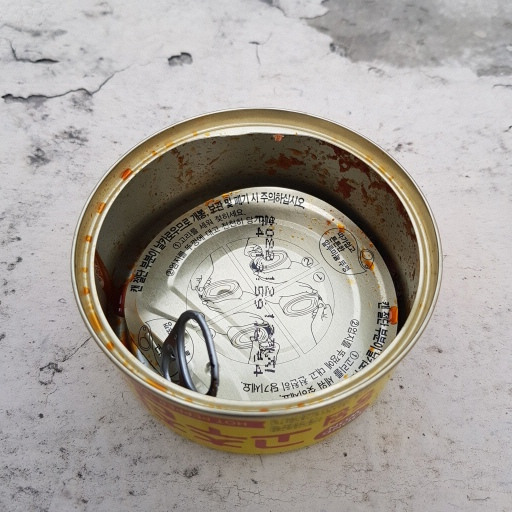Metal_1: (73, 108, 443, 456)
